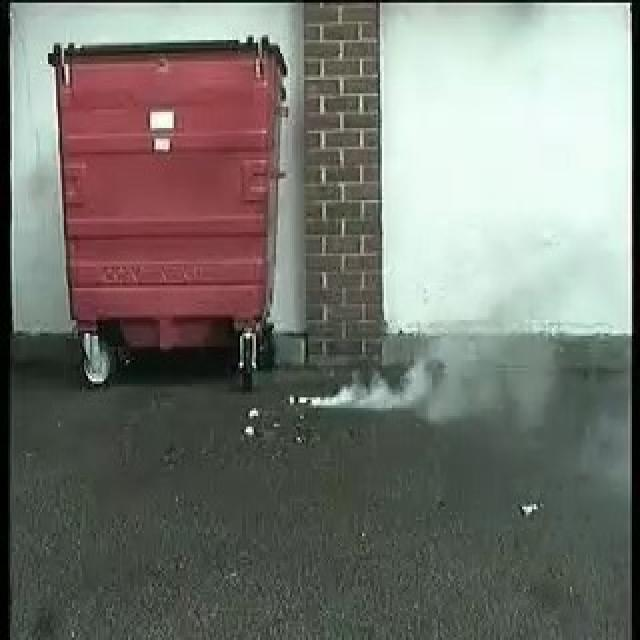smoke: (312, 336, 492, 420)
